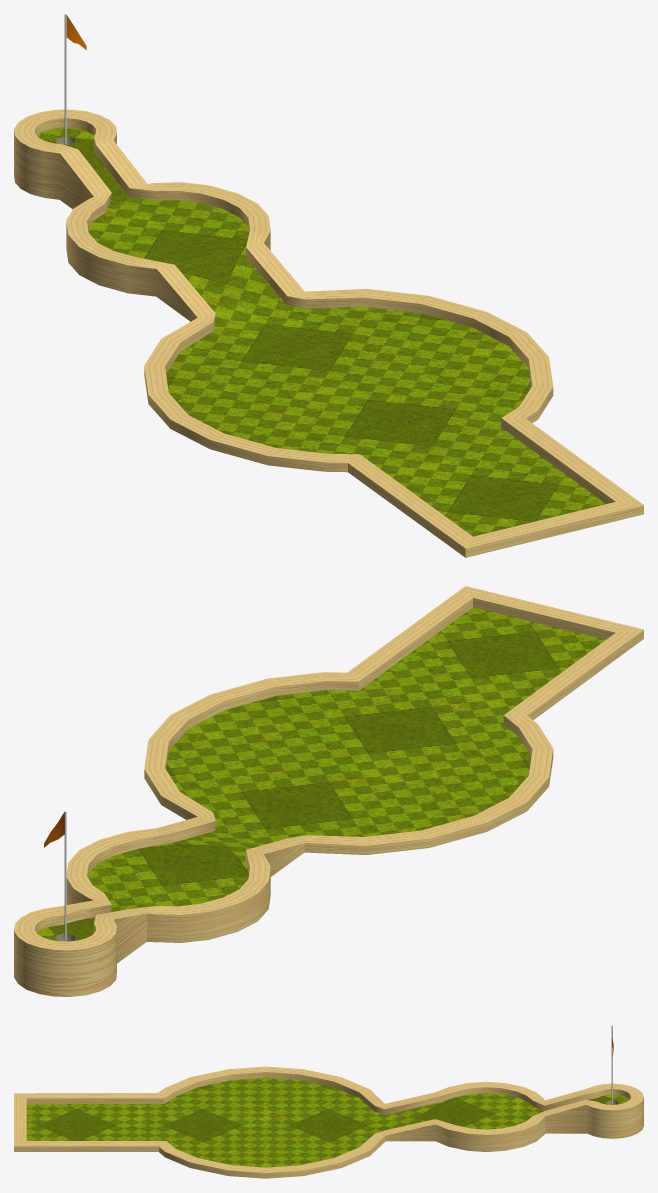
Rendered from course1_hole18.fbx.
The picture shows the model from 3 angles, top to bottom: view 1: azimuth 30°, elevation 25°; view 2: azimuth 150°, elevation 25°; view 3: azimuth 270°, elevation 25°; orthographic projection. The views are drawn at different scales.
Parts seen in each view (by area): view 1: course1_hole18_ground, course1_hole18_walls; view 2: course1_hole18_ground, course1_hole18_walls, course1_hole18_flag; view 3: course1_hole18_ground, course1_hole18_walls.
Part boxes in pixels (x1,y1,x2,y2): course1_hole18_ground: (37, 127, 605, 536); course1_hole18_walls: (14, 109, 643, 557); course1_hole18_ground: (37, 607, 605, 941); course1_hole18_walls: (14, 586, 643, 996); course1_hole18_flag: (44, 811, 66, 941); course1_hole18_ground: (26, 1077, 629, 1167); course1_hole18_walls: (14, 1066, 643, 1178).
Bounding box in the file's own units: 6 × 2.63 × 15.
